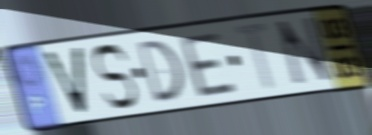D: (135, 37, 188, 106)
E: (177, 29, 240, 100)
N: (273, 14, 337, 90)
S: (90, 42, 140, 112)
T: (231, 19, 279, 95)
V: (39, 45, 90, 118)
